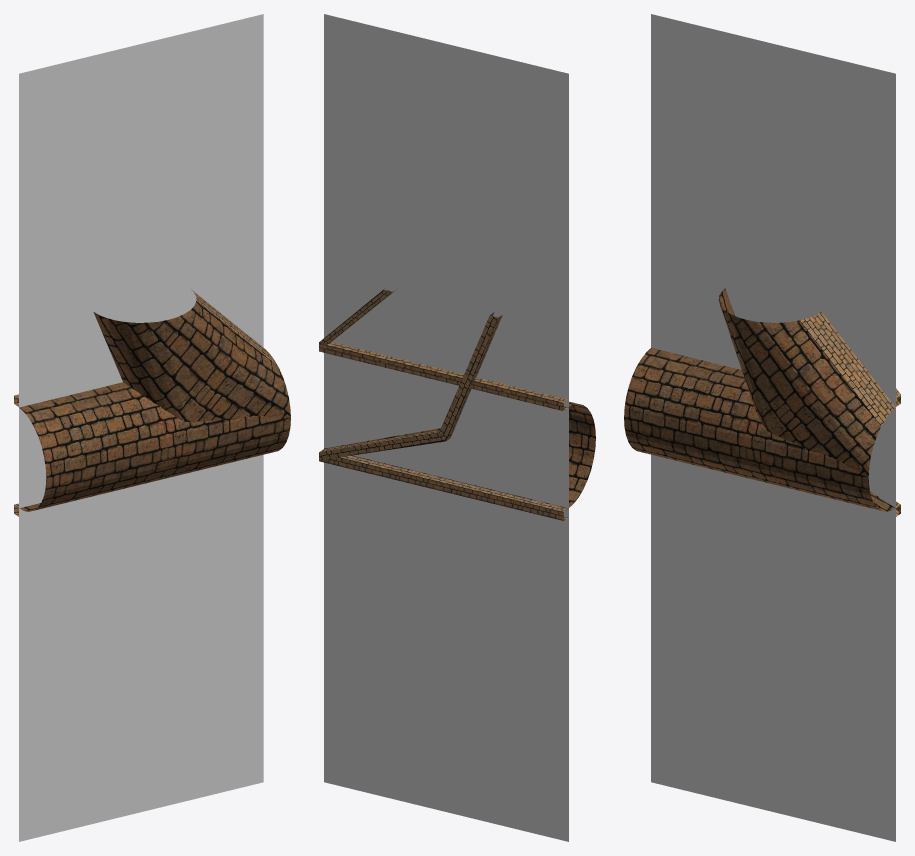
Rendered from Tubes.fbx.
3 views of the same model, side by side, from view 1: azimuth 30°, elevation 25°; view 2: azimuth 150°, elevation 25°; view 3: azimuth 330°, elevation 25° (orthographic).
Visible parts, largest first — view 1: Background, StraightTube, CurveTube; view 2: Background, StraightTube, CurveTube; view 3: Background, StraightTube, CurveTube.
Part boxes in pixels (x1,y1,x2,y2): Background: (19, 14, 263, 841); StraightTube: (14, 382, 290, 516); CurveTube: (93, 289, 290, 421); Background: (324, 14, 568, 841); StraightTube: (319, 342, 595, 520); CurveTube: (319, 287, 502, 460); Background: (651, 14, 895, 841); StraightTube: (624, 348, 900, 516); CurveTube: (718, 288, 900, 515).
Size of the model in its own units: 160 by 480 by 38.07.
